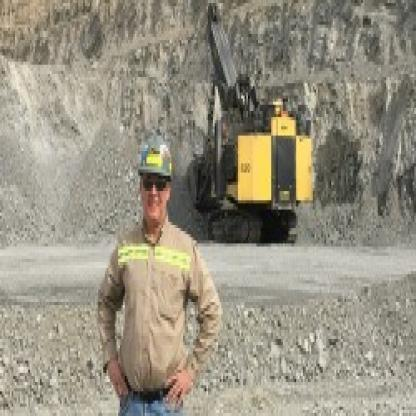person: (93, 102, 231, 413)
